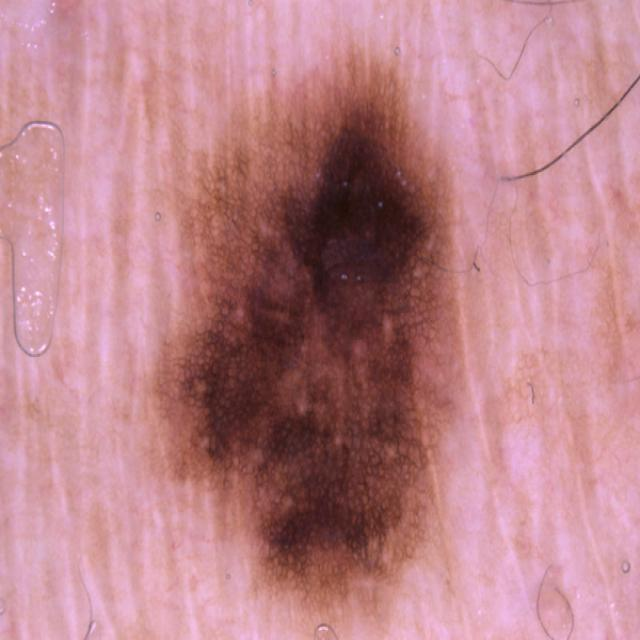NV: (143, 40, 458, 624)
